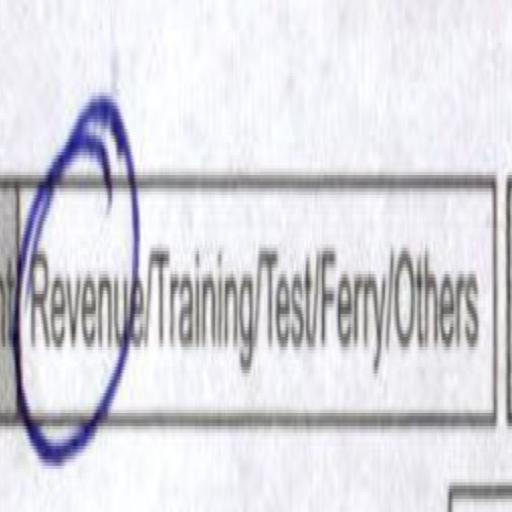check: (18, 115, 143, 465)
